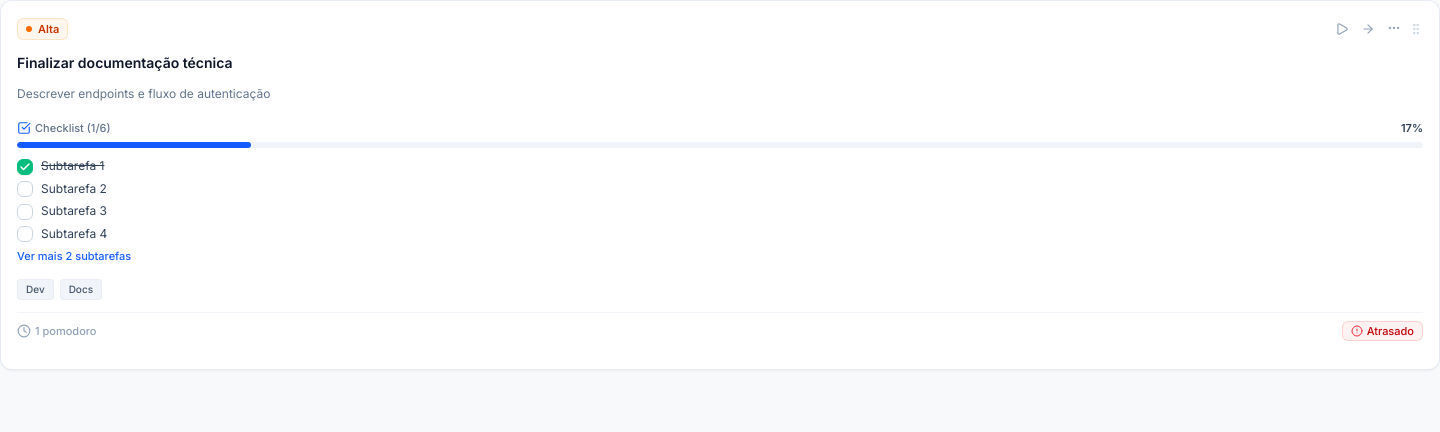
it: TaskCard › exibe as 4 primeiras subtarefas e permite expandir/colapsar quando houver mais de 4
The width and height of the screenshot is (1440, 432).
Expected: the text "Subtarefa 1" is shown, [41,158,104,175]
Expected: the text "Subtarefa 2" is shown, [41,181,107,197]
What coordinates should you click on to do the following:
click the button "Ver mais 2 subtarefas"
I would click on:
 (74, 257)
Its box is [17,248,131,265].
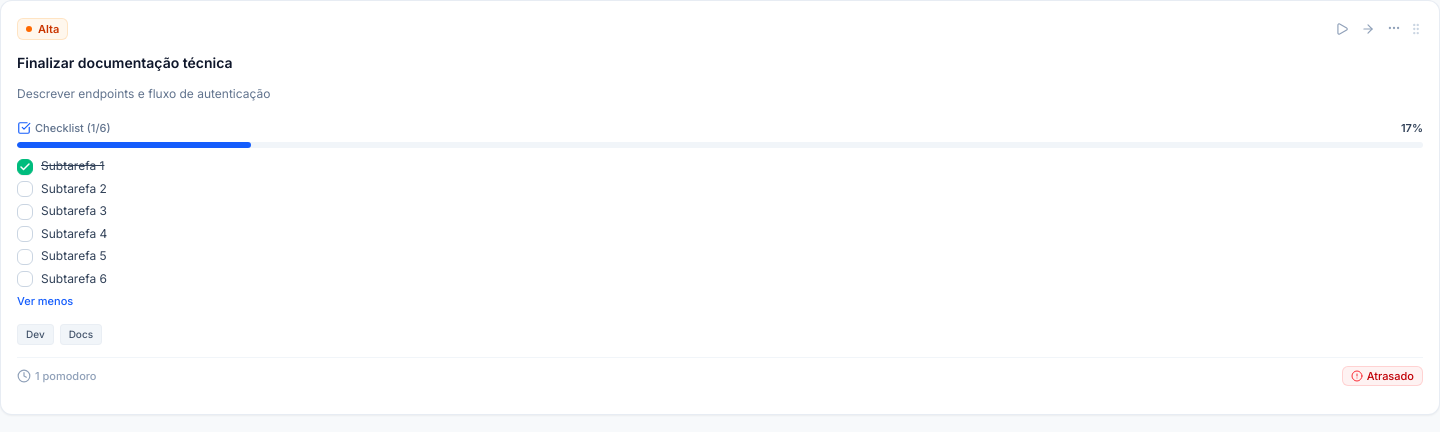
Expected: the text "Subtarefa 5" is shown, [41,248,107,265]
Expected: the text "Subtarefa 6" is shown, [41,271,107,287]
Expected: the button "Ver menos" is shown
What coordinates should you click on to do the following:
click the button "Ver menos"
I would click on:
 (45, 302)
Its box is [17,293,73,310].
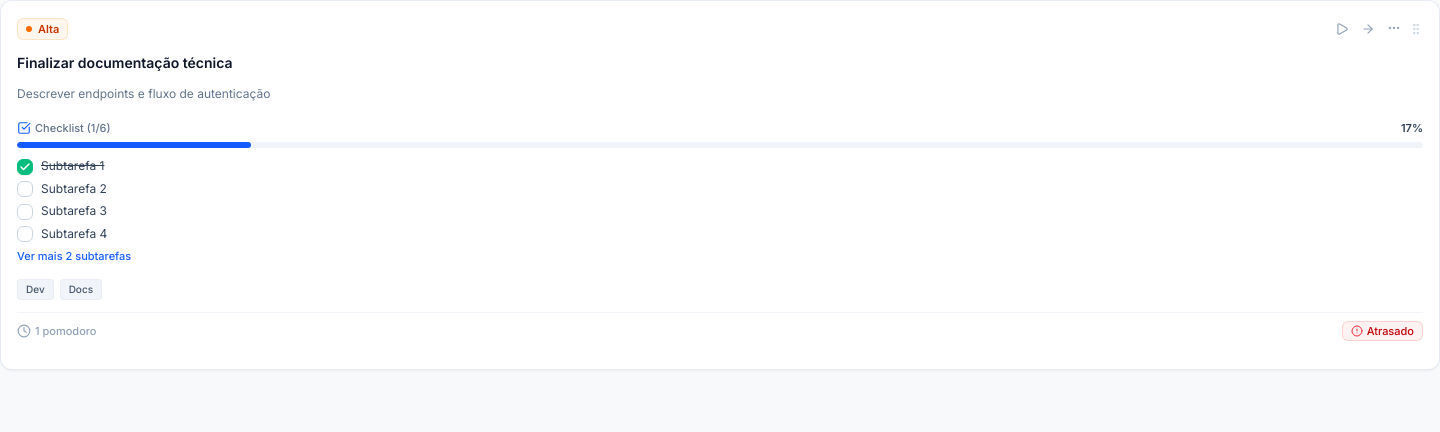
Expected: the text "Subtarefa 5" is gone
Expected: the button "Ver mais 2 subtarefas" is shown, [17,248,131,265]
